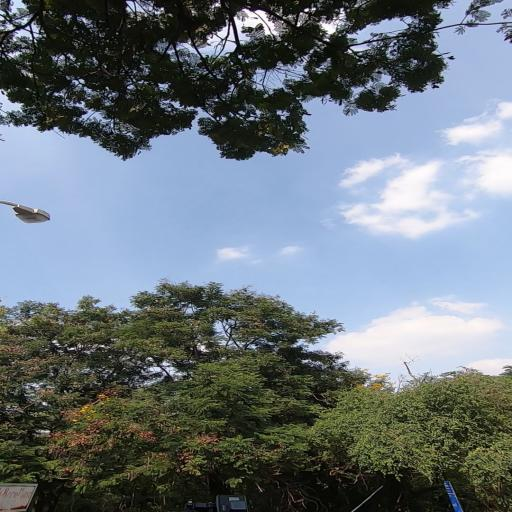Street_light: (2, 196, 57, 230)
